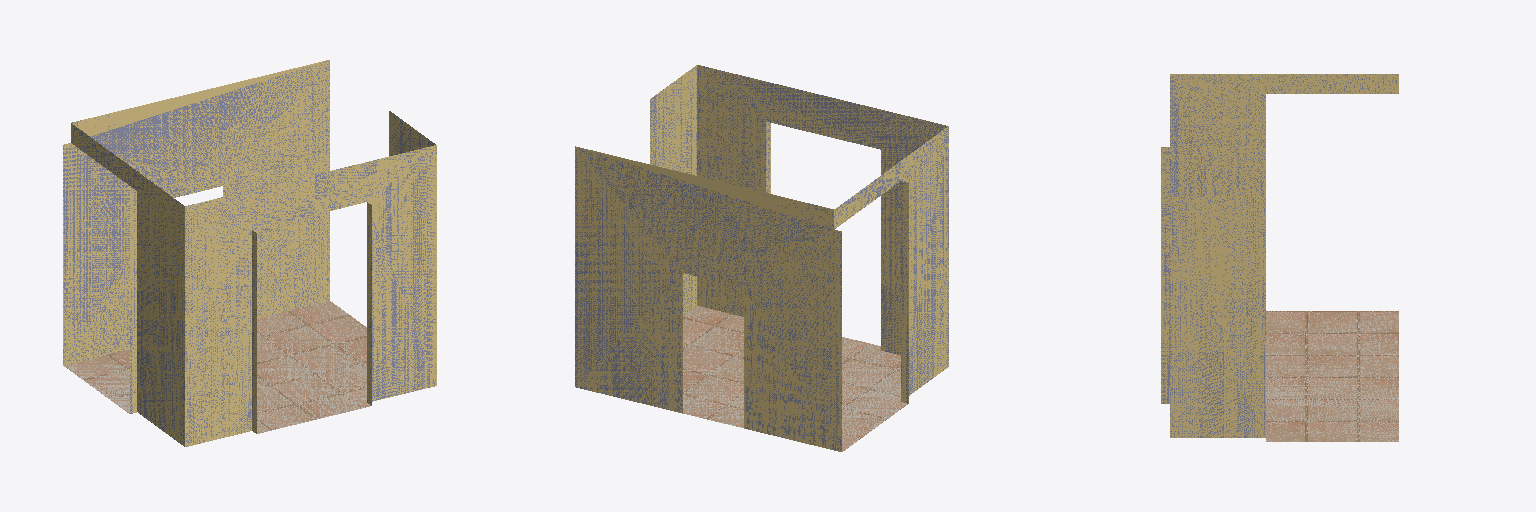
The picture shows the model from 3 angles: view 1: azimuth 30°, elevation 25°; view 2: azimuth 150°, elevation 25°; view 3: azimuth 270°, elevation 25°; orthographic projection.
Visible parts, largest first — view 1: Mesh1 COM27 Model; view 2: Mesh1 COM27 Model; view 3: Mesh1 COM27 Model.
Boxes of the visible parts, box(x1,y1,x2,y2) form: Mesh1 COM27 Model: box(63, 60, 436, 446); Mesh1 COM27 Model: box(575, 65, 948, 451); Mesh1 COM27 Model: box(1161, 74, 1398, 441).
Bounding box in the file's own units: 4.17 × 3.6 × 3.21.
4 materials, 1 textured.